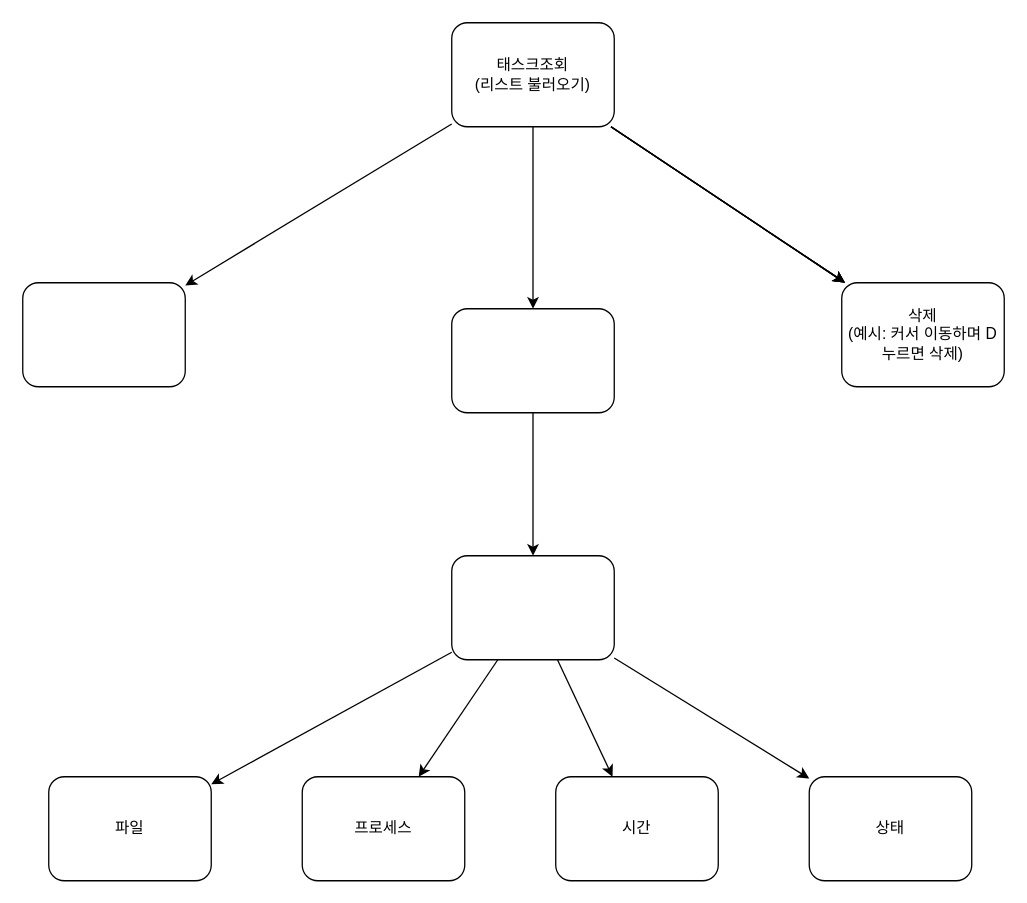
Image size: 1027x903. Some labels were removed from this diagram. The shapes that lost their labels are listed below. From the top down, each one's centre as x and y in pixels, then its label:
point (103, 334): 태스크 on/off (예시 커서 이동하며 "스페이스" 버튼 누르면 on/off)
point (532, 360): 생성
point (532, 607): 4가지 작업 중 선택
